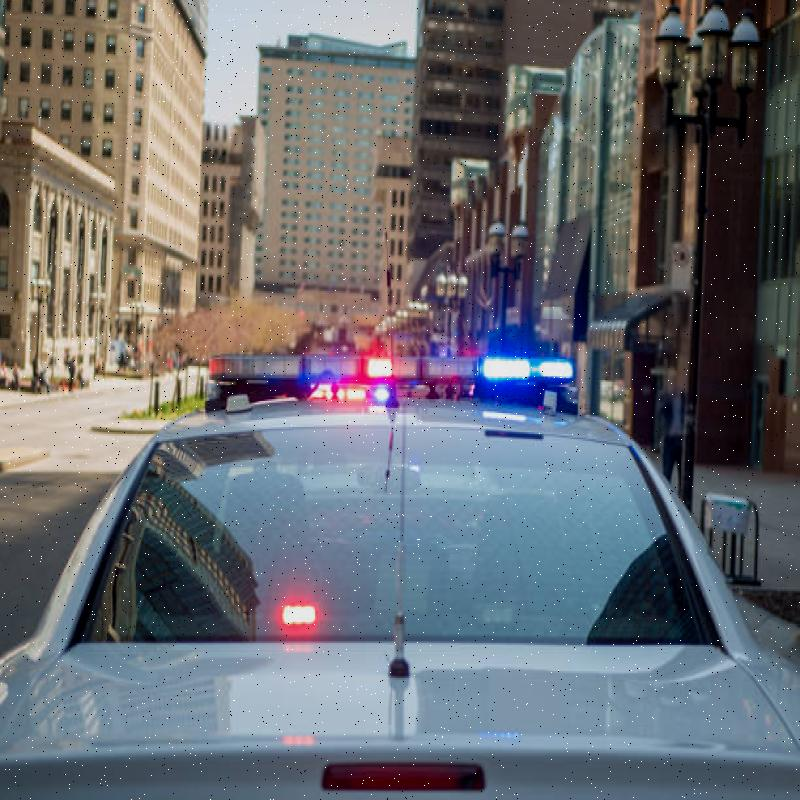AmbulanceSiren: (216, 319, 567, 419)
